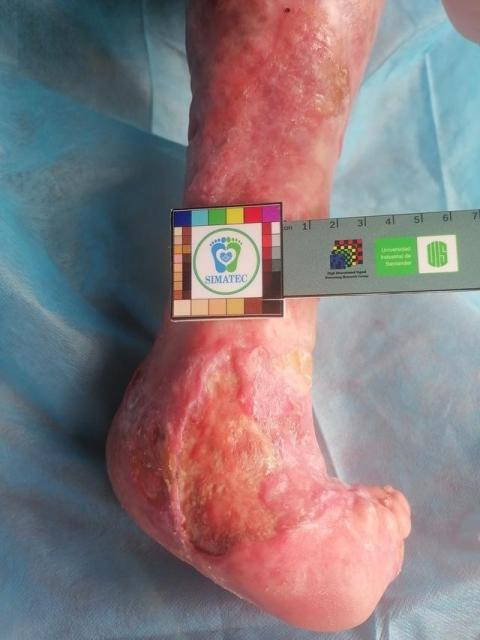wound: (125, 342, 351, 557), (184, 8, 344, 206)
